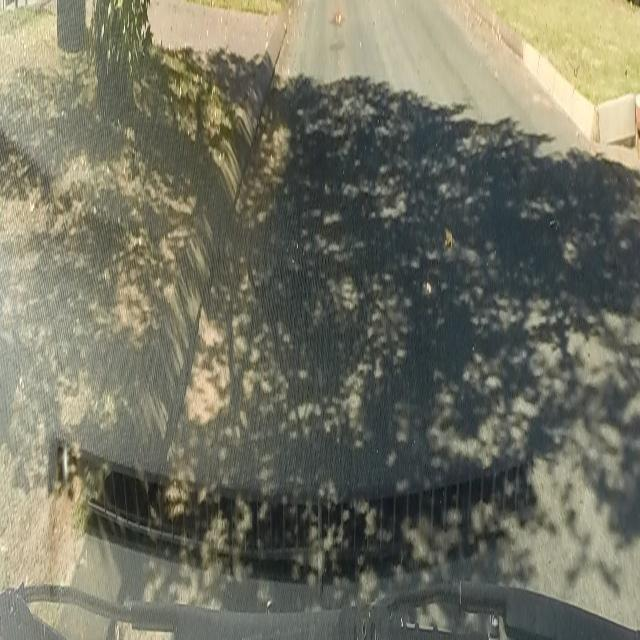pothole: (332, 8, 344, 29)
